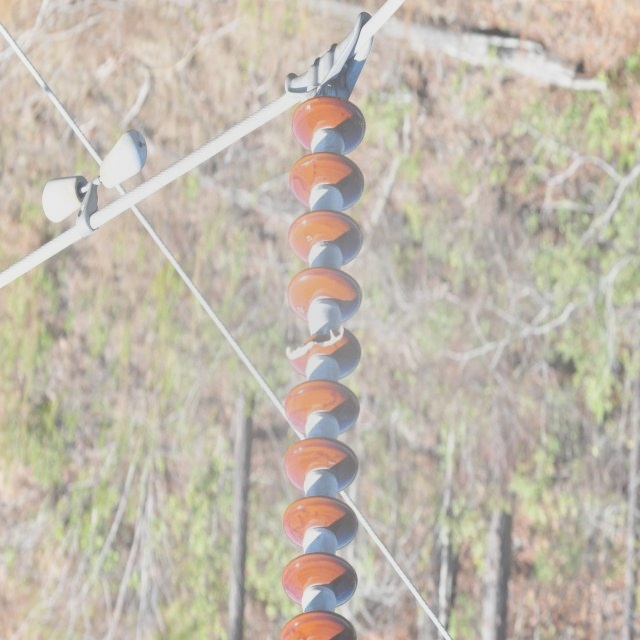broken: (284, 322, 348, 366)
insulator: (277, 96, 366, 640)
